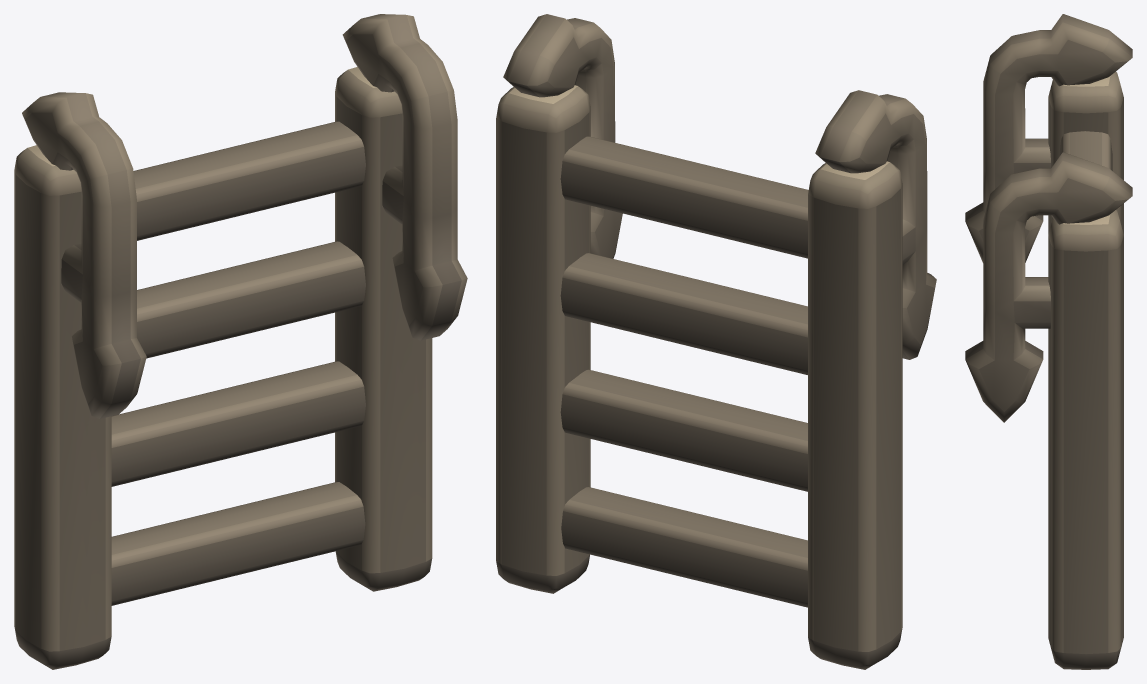
File: DryWood_Ladder_Top2.fbx
3 renders of one model, left to right at view 1: azimuth 30°, elevation 25°; view 2: azimuth 150°, elevation 25°; view 3: azimuth 270°, elevation 25°, orthographic. The views are drawn at different scales.
Parts seen in each view (by area): view 1: DryWood_Ladder_Top2_LOD0; view 2: DryWood_Ladder_Top2_LOD0; view 3: DryWood_Ladder_Top2_LOD0.
Boxes of the visible parts, x1,y1,x2,y2 form: DryWood_Ladder_Top2_LOD0: [14, 14, 467, 669]; DryWood_Ladder_Top2_LOD0: [496, 14, 936, 669]; DryWood_Ladder_Top2_LOD0: [965, 14, 1132, 669].
Size of what is drawn, in the model's own units: 0.8613 by 1.19 by 0.3586.
